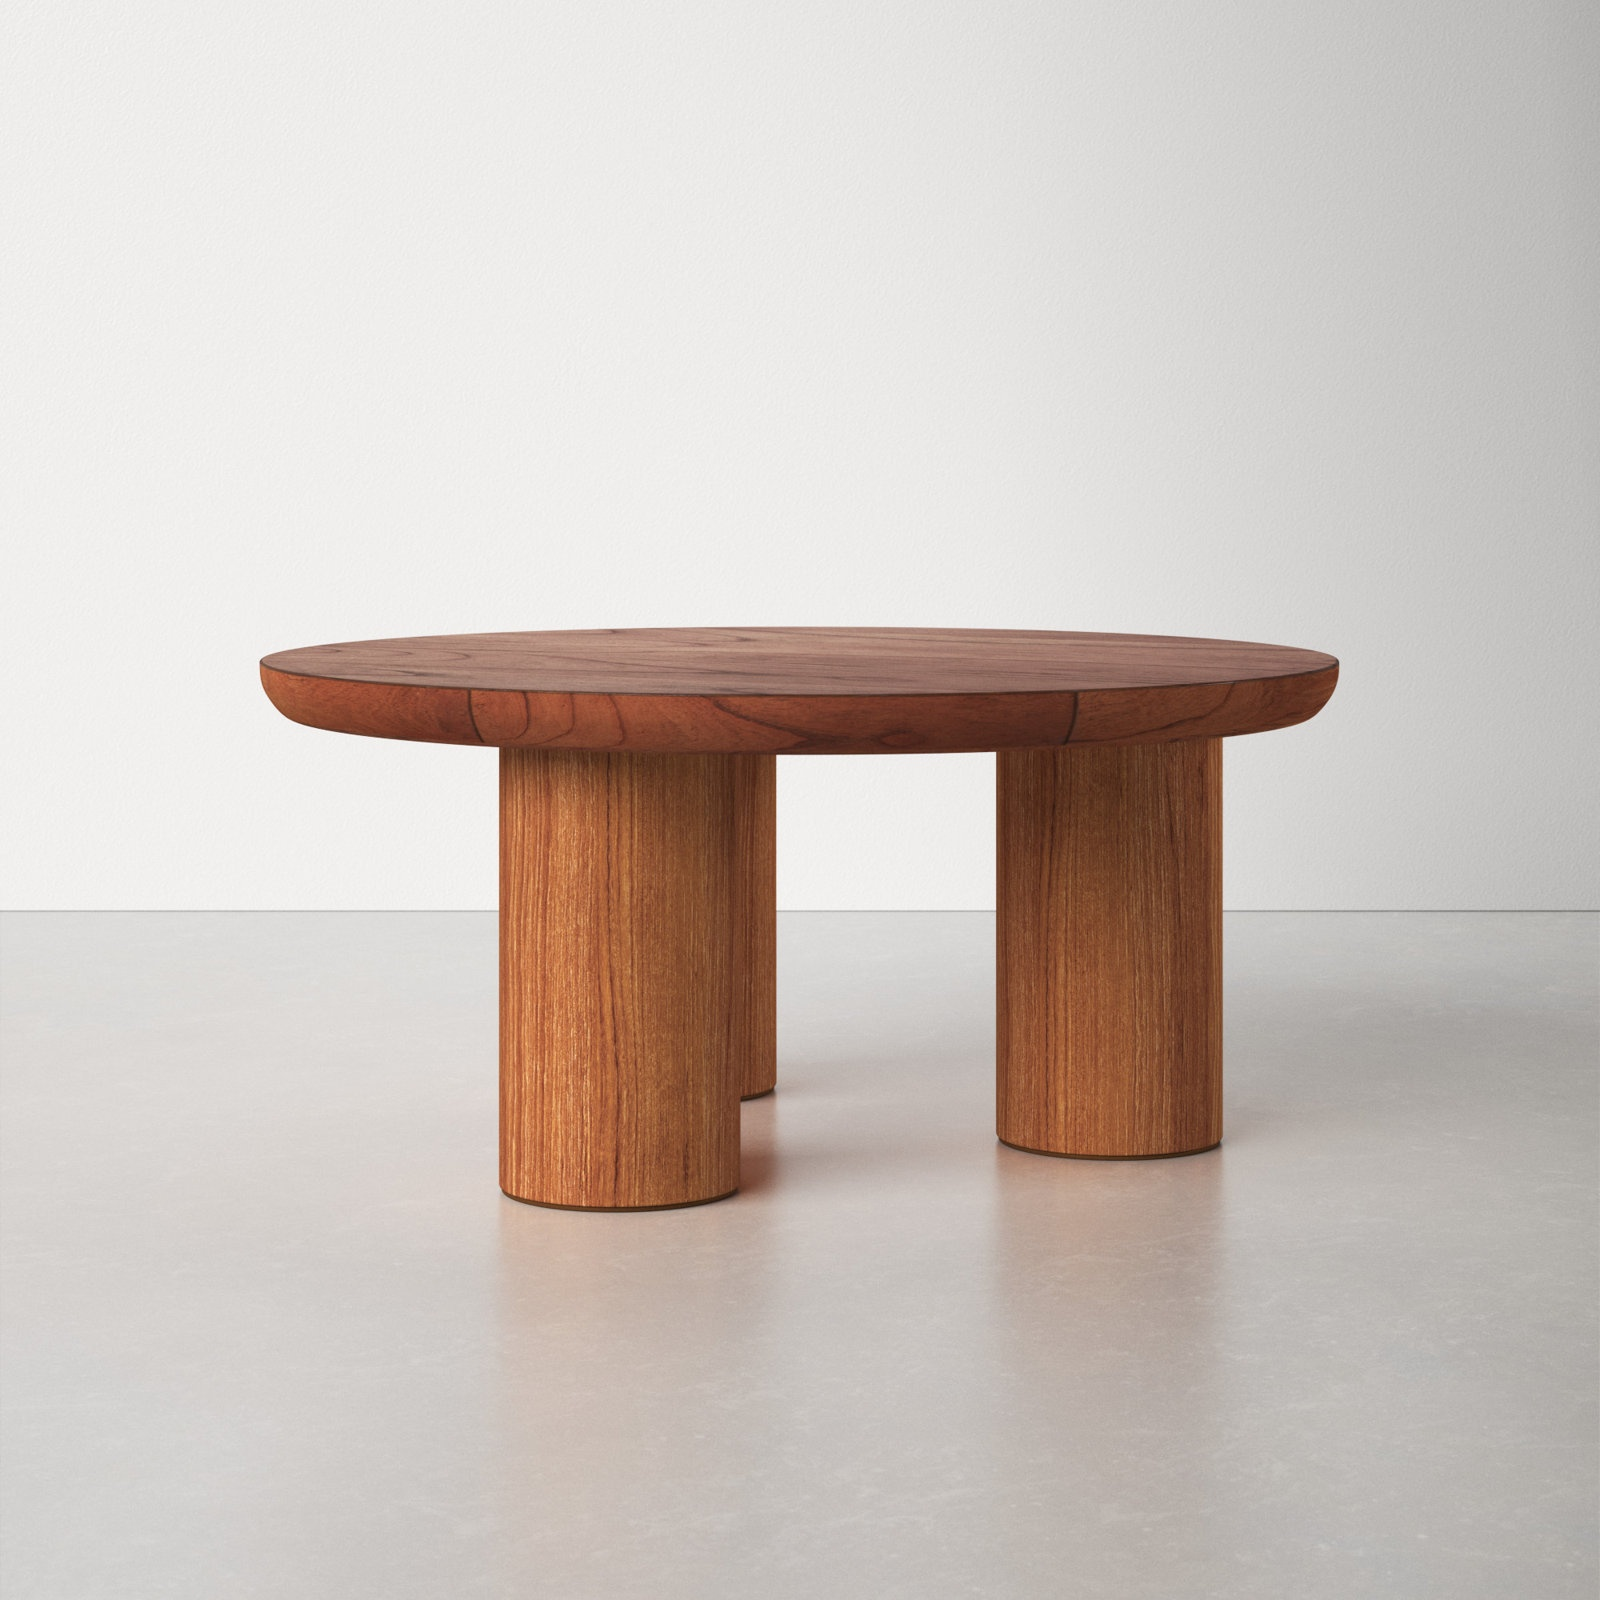obstacle: (261, 629, 1336, 1207)
